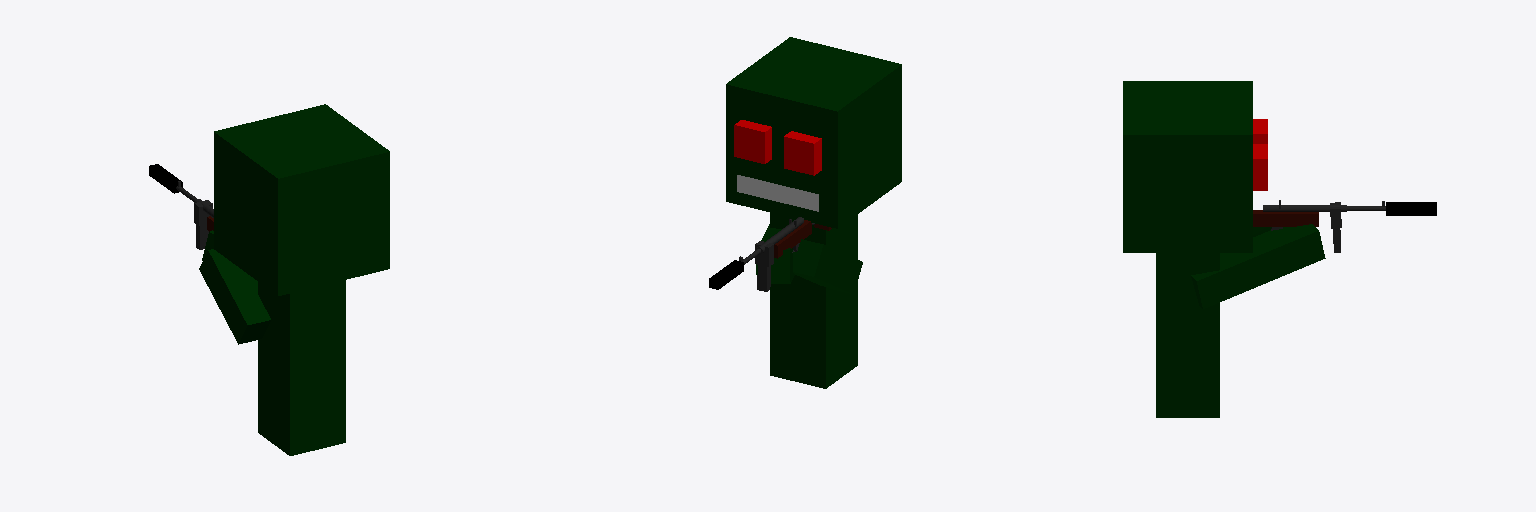
The model's file is walk2_000021.obj.
3 views of the same model, side by side, from view 1: azimuth 30°, elevation 25°; view 2: azimuth 150°, elevation 25°; view 3: azimuth 270°, elevation 25° (orthographic).
Visible parts, largest first — view 1: Cube.001, Cube, Cube.012; view 2: Cube.001, Cube, Cube.012, Cube.003, Cube.002, Plane, Cube.013, Cube.010, Cube.014_Cube.015; view 3: Cube.001, Cube, Cube.013, Cube.010, Cube.014_Cube.015, Cube.002, Cylinder.
Part boxes in pixels (left/top/right/bottom): Cube.001: left=214, top=104, right=389, bottom=295; Cube: left=258, top=280, right=345, bottom=455; Cube.012: left=199, top=249, right=270, bottom=344; Cube.001: left=726, top=37, right=901, bottom=228; Cube: left=770, top=213, right=857, bottom=388; Cube.012: left=793, top=239, right=862, bottom=294; Cube.003: left=784, top=131, right=821, bottom=175; Cube.002: left=734, top=120, right=771, bottom=163; Plane: left=737, top=175, right=818, bottom=211; Cube.013: left=756, top=224, right=794, bottom=283; Cube.010: left=774, top=220, right=811, bottom=258; Cube.014_Cube.015: left=709, top=260, right=743, bottom=289; Cube.001: left=1123, top=81, right=1252, bottom=252; Cube: left=1156, top=253, right=1219, bottom=417; Cube.013: left=1191, top=224, right=1325, bottom=308; Cube.010: left=1253, top=210, right=1318, bottom=226; Cube.014_Cube.015: left=1386, top=202, right=1436, bottom=215; Cube.002: left=1253, top=144, right=1267, bottom=190; Cylinder: left=1263, top=205, right=1346, bottom=211.
Size of the model in its own units: 2 by 5.05 by 4.84.